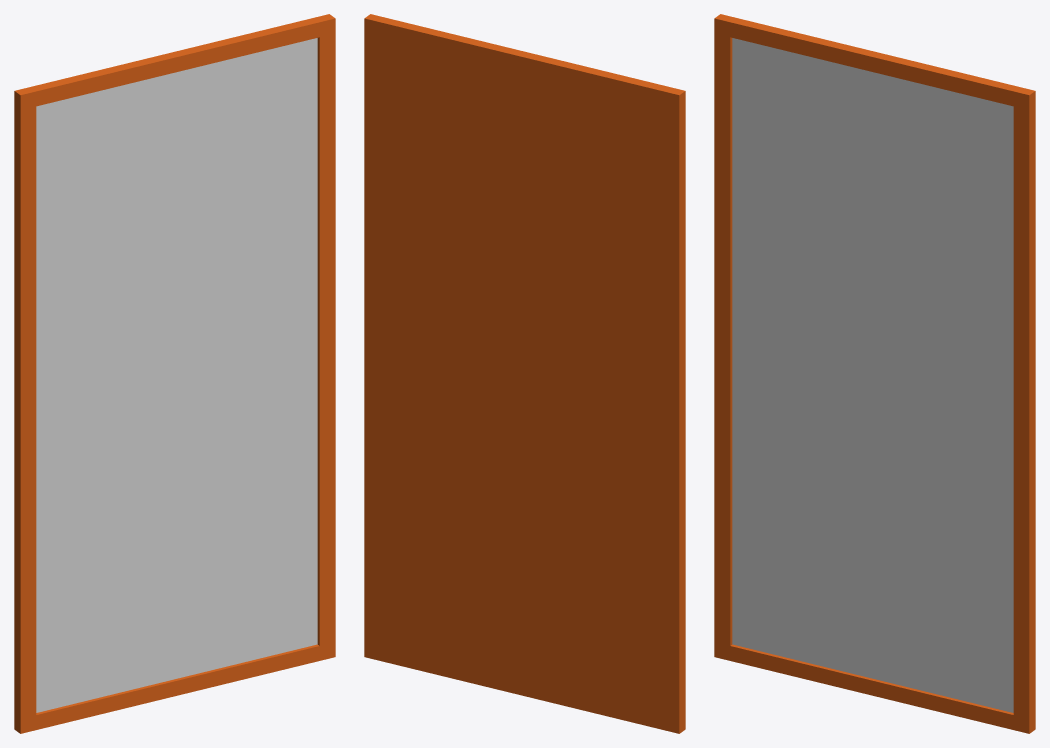
Rendered from espelho.fbx.
3 renders of one model, left to right at view 1: azimuth 30°, elevation 25°; view 2: azimuth 150°, elevation 25°; view 3: azimuth 330°, elevation 25°, orthographic.
Parts seen in each view (by area): view 1: Cube.001; view 2: Cube.001; view 3: Cube.001.
Part boxes in pixels (box(x1,y1,x2,y2)): Cube.001: box(14, 14, 335, 733); Cube.001: box(364, 14, 685, 733); Cube.001: box(714, 14, 1035, 733).
Size of the model in its own units: 200 by 387 by 6.67.
